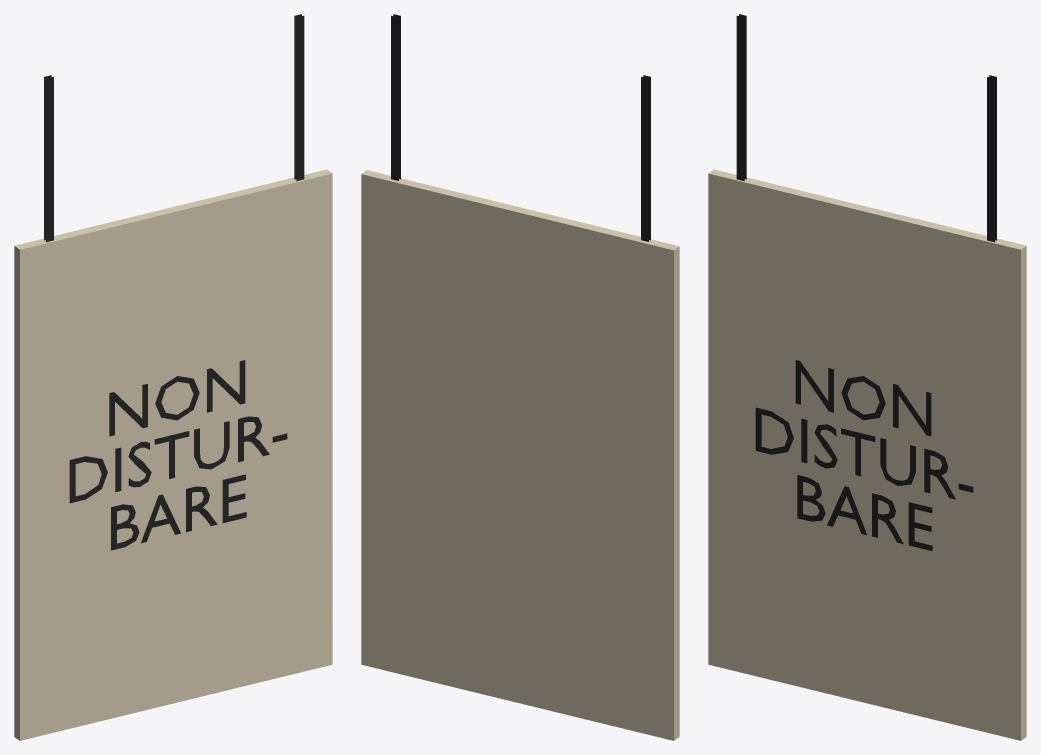
The model's file is sign_do_not_disturb.gltf.
3 views of the same model, side by side, from view 1: azimuth 30°, elevation 25°; view 2: azimuth 150°, elevation 25°; view 3: azimuth 330°, elevation 25° (orthographic).
Parts seen in each view (by area): view 1: Mesh, Lettering; view 2: Mesh; view 3: Mesh, Lettering.
Part boxes in pixels (box(x1,y1,x2,y2)): Mesh: box(14, 14, 332, 740); Lettering: box(69, 360, 287, 550); Mesh: box(361, 14, 679, 740); Mesh: box(708, 14, 1026, 740); Lettering: box(755, 360, 973, 550).
Bounding box in the file's own units: 0.16 × 0.32 × 0.006.
